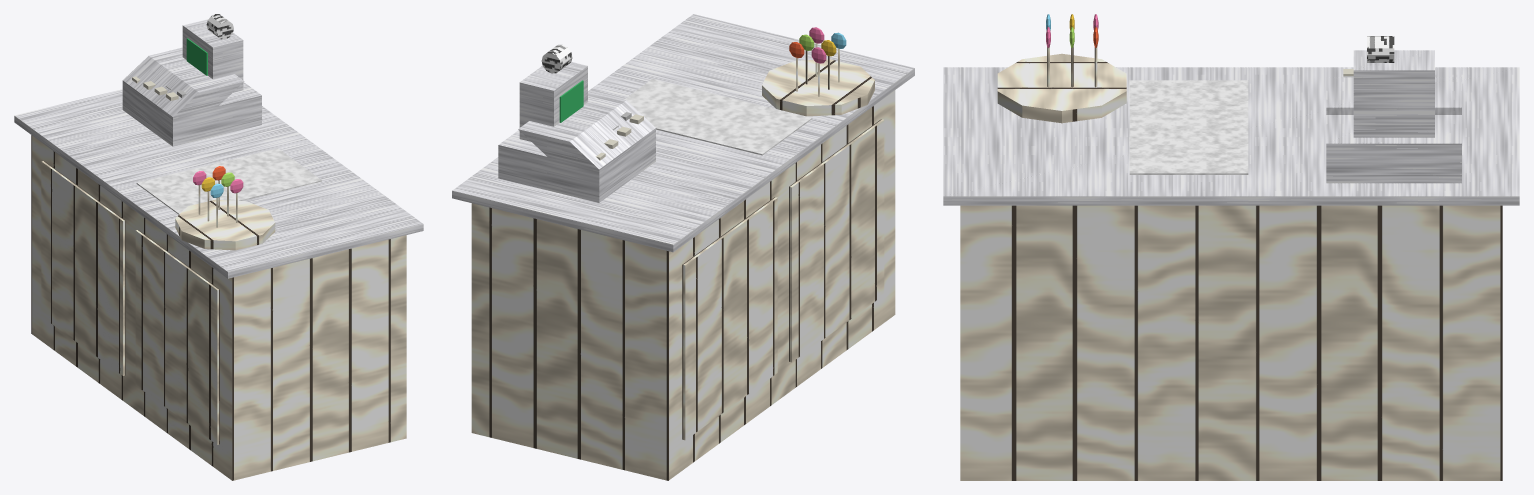
The model's file is cassa.obj.
3 renders of one model, left to right at view 1: azimuth 30°, elevation 25°; view 2: azimuth 150°, elevation 25°; view 3: azimuth 270°, elevation 25°, orthographic. The views are drawn at different scales.
Parts seen in each view (by area): view 1: legno_000, legno_001, metallo_002, metallo_005, gomma_003, metallo_004, liscio_009, stampa_a_010; view 2: legno_000, legno_001, metallo_002, metallo_005, gomma_003, metallo_004, liscio_009, stampa_a_010; view 3: legno_000, metallo_002, gomma_003, metallo_005, metallo_004, legno_001, stampa_a_010.
Boxes of the visible parts, x1=… form: legno_000: x1=31, y1=135, x2=406, y2=480; legno_001: x1=41, y1=161, x2=275, y2=444; metallo_002: x1=14, y1=89, x2=423, y2=278; metallo_005: x1=123, y1=19, x2=244, y2=116; gomma_003: x1=136, y1=148, x2=321, y2=214; metallo_004: x1=122, y1=80, x2=261, y2=146; liscio_009: x1=186, y1=38, x2=207, y2=75; stampa_a_010: x1=206, y1=14, x2=233, y2=39; legno_000: x1=471, y1=90, x2=895, y2=480; legno_001: x1=682, y1=59, x2=884, y2=440; metallo_002: x1=452, y1=14, x2=914, y2=252; metallo_005: x1=518, y1=62, x2=655, y2=169; gomma_003: x1=624, y1=79, x2=812, y2=155; metallo_004: x1=498, y1=128, x2=655, y2=202; liscio_009: x1=559, y1=80, x2=583, y2=122; stampa_a_010: x1=541, y1=44, x2=572, y2=73; legno_000: x1=960, y1=205, x2=1502, y2=480; metallo_002: x1=943, y1=67, x2=1519, y2=205; gomma_003: x1=1129, y1=80, x2=1248, y2=174; metallo_005: x1=1326, y1=50, x2=1461, y2=137; metallo_004: x1=1326, y1=115, x2=1461, y2=183; legno_001: x1=997, y1=53, x2=1126, y2=123; stampa_a_010: x1=1367, y1=36, x2=1394, y2=62.
Bounding box in the file's own units: 0.91 × 1.38 × 1.7.
17 materials, 8 textured.
